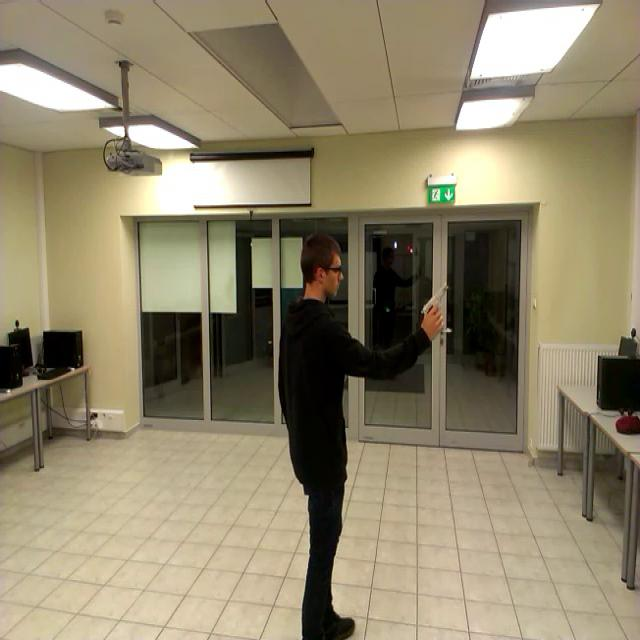handgun: (418, 279, 452, 335)
